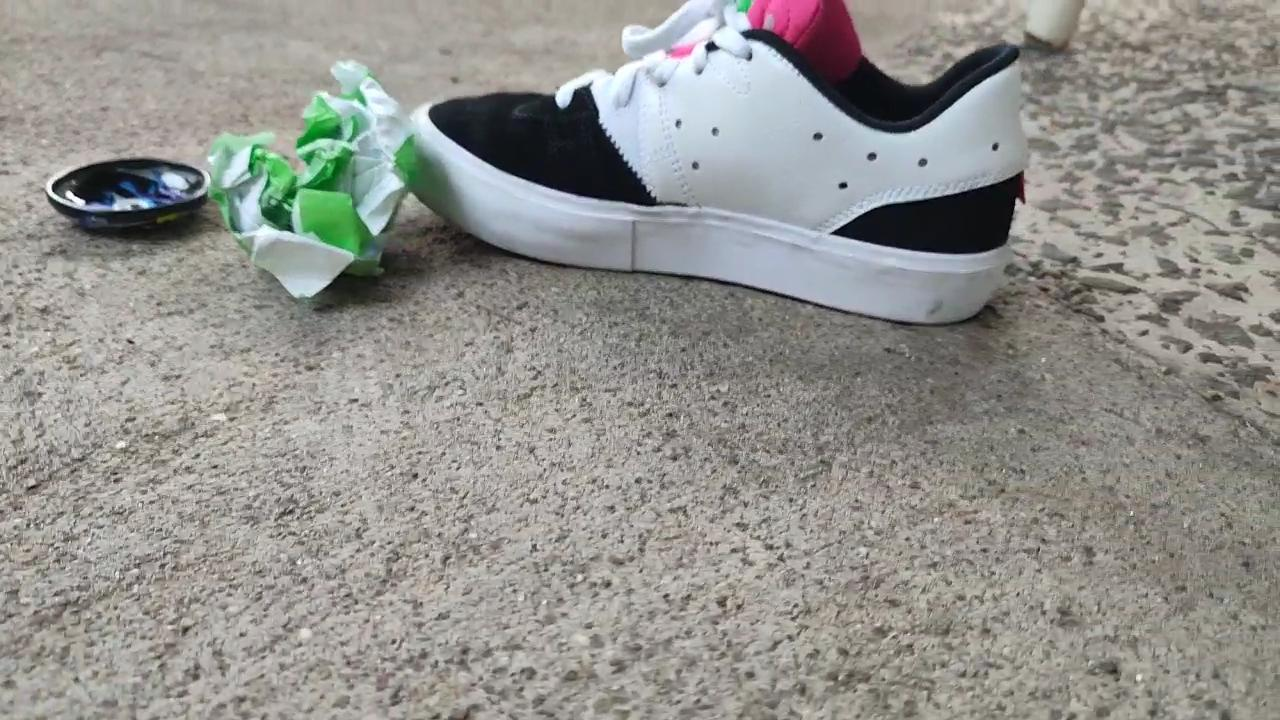Paper: (194, 43, 418, 319)
